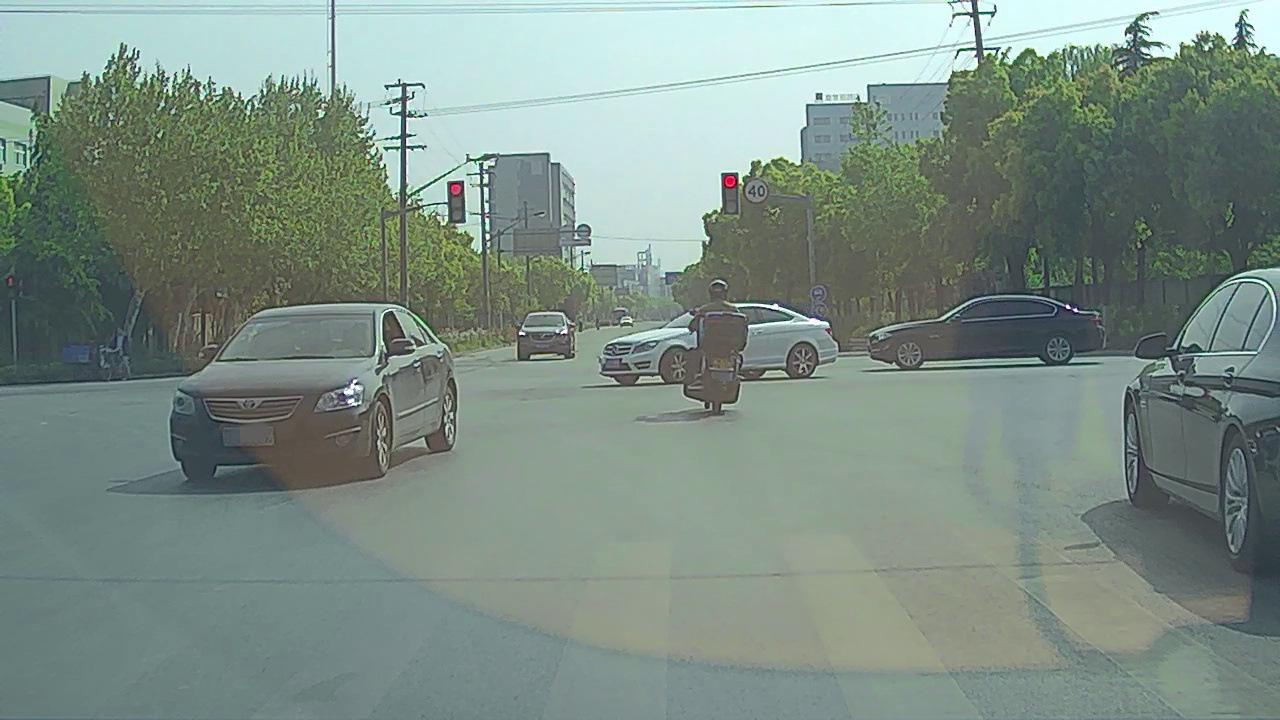traffic_light: (449, 182, 465, 222), (723, 174, 738, 213)
